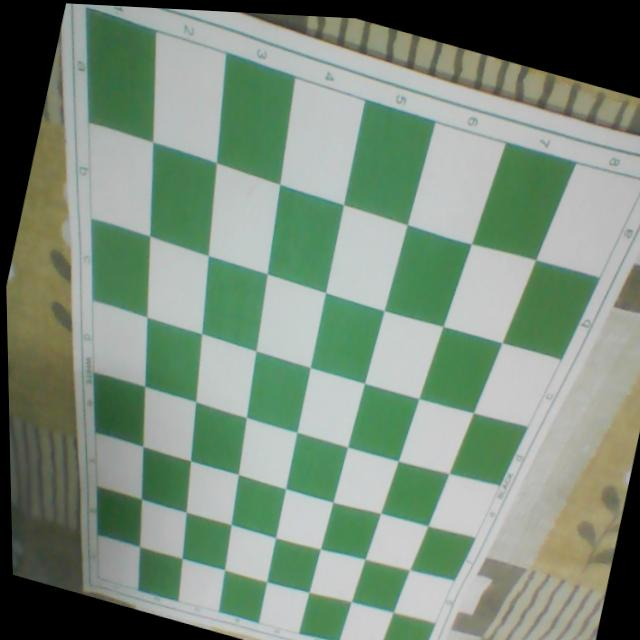square: (55, 3, 175, 146), (130, 27, 240, 166), (471, 135, 580, 272), (198, 46, 305, 184), (535, 153, 640, 288), (269, 72, 369, 206), (404, 118, 507, 248), (340, 96, 439, 229), (67, 120, 170, 239), (131, 141, 229, 259), (503, 253, 602, 368), (441, 238, 537, 352), (195, 160, 286, 276), (383, 219, 475, 333), (257, 180, 346, 294), (323, 202, 409, 313), (472, 335, 564, 438), (74, 213, 164, 318), (131, 235, 218, 337), (418, 321, 503, 423), (189, 252, 274, 353), (362, 306, 445, 406), (246, 271, 328, 371), (76, 296, 159, 389), (307, 292, 385, 387), (396, 392, 476, 484), (449, 408, 530, 497), (184, 329, 262, 421), (131, 315, 209, 404), (238, 347, 313, 435), (346, 380, 421, 467), (294, 363, 367, 452), (79, 369, 154, 448), (329, 442, 400, 521), (379, 458, 451, 534), (181, 400, 251, 478), (230, 416, 299, 493), (364, 505, 431, 579), (410, 520, 479, 590), (130, 444, 197, 515), (283, 432, 347, 506), (427, 475, 500, 537), (390, 562, 456, 630), (320, 496, 383, 566), (272, 484, 335, 554), (307, 541, 370, 610), (223, 471, 285, 540), (87, 483, 151, 548), (350, 555, 412, 619), (143, 387, 195, 461), (176, 510, 235, 573), (265, 535, 321, 596), (186, 461, 238, 524), (130, 546, 186, 604), (94, 432, 142, 497), (224, 524, 276, 584), (215, 570, 267, 626), (140, 497, 186, 557), (297, 590, 352, 640), (259, 582, 308, 635), (177, 558, 224, 611), (97, 534, 139, 590), (338, 602, 393, 640), (379, 611, 436, 640)
